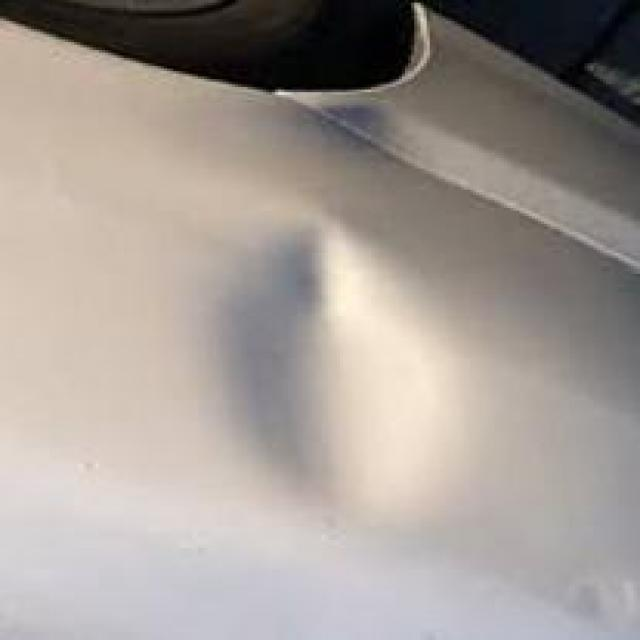dent: (179, 175, 430, 544)
